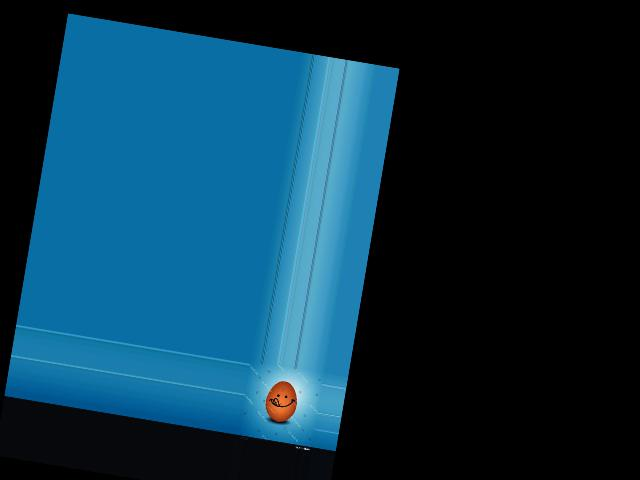egg: (262, 378, 300, 424)
